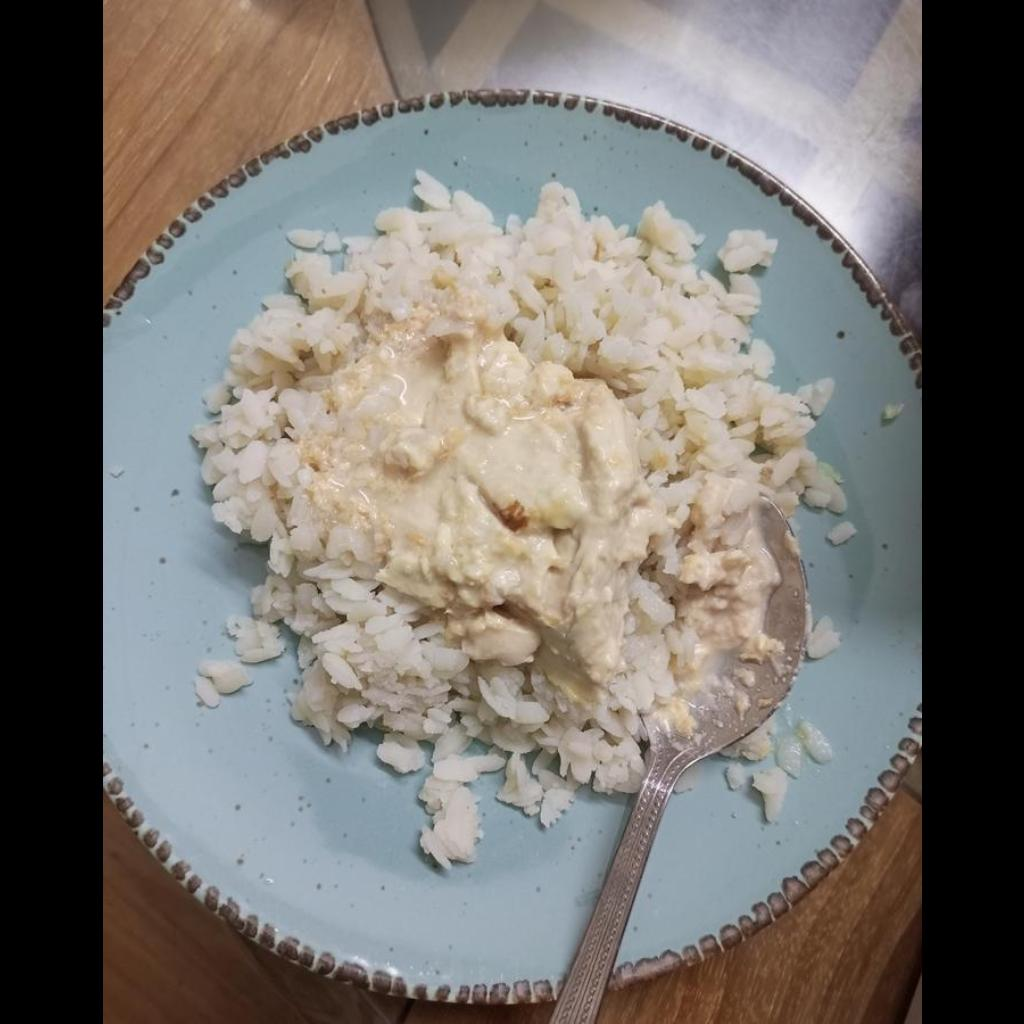payesh: (192, 173, 842, 867)
